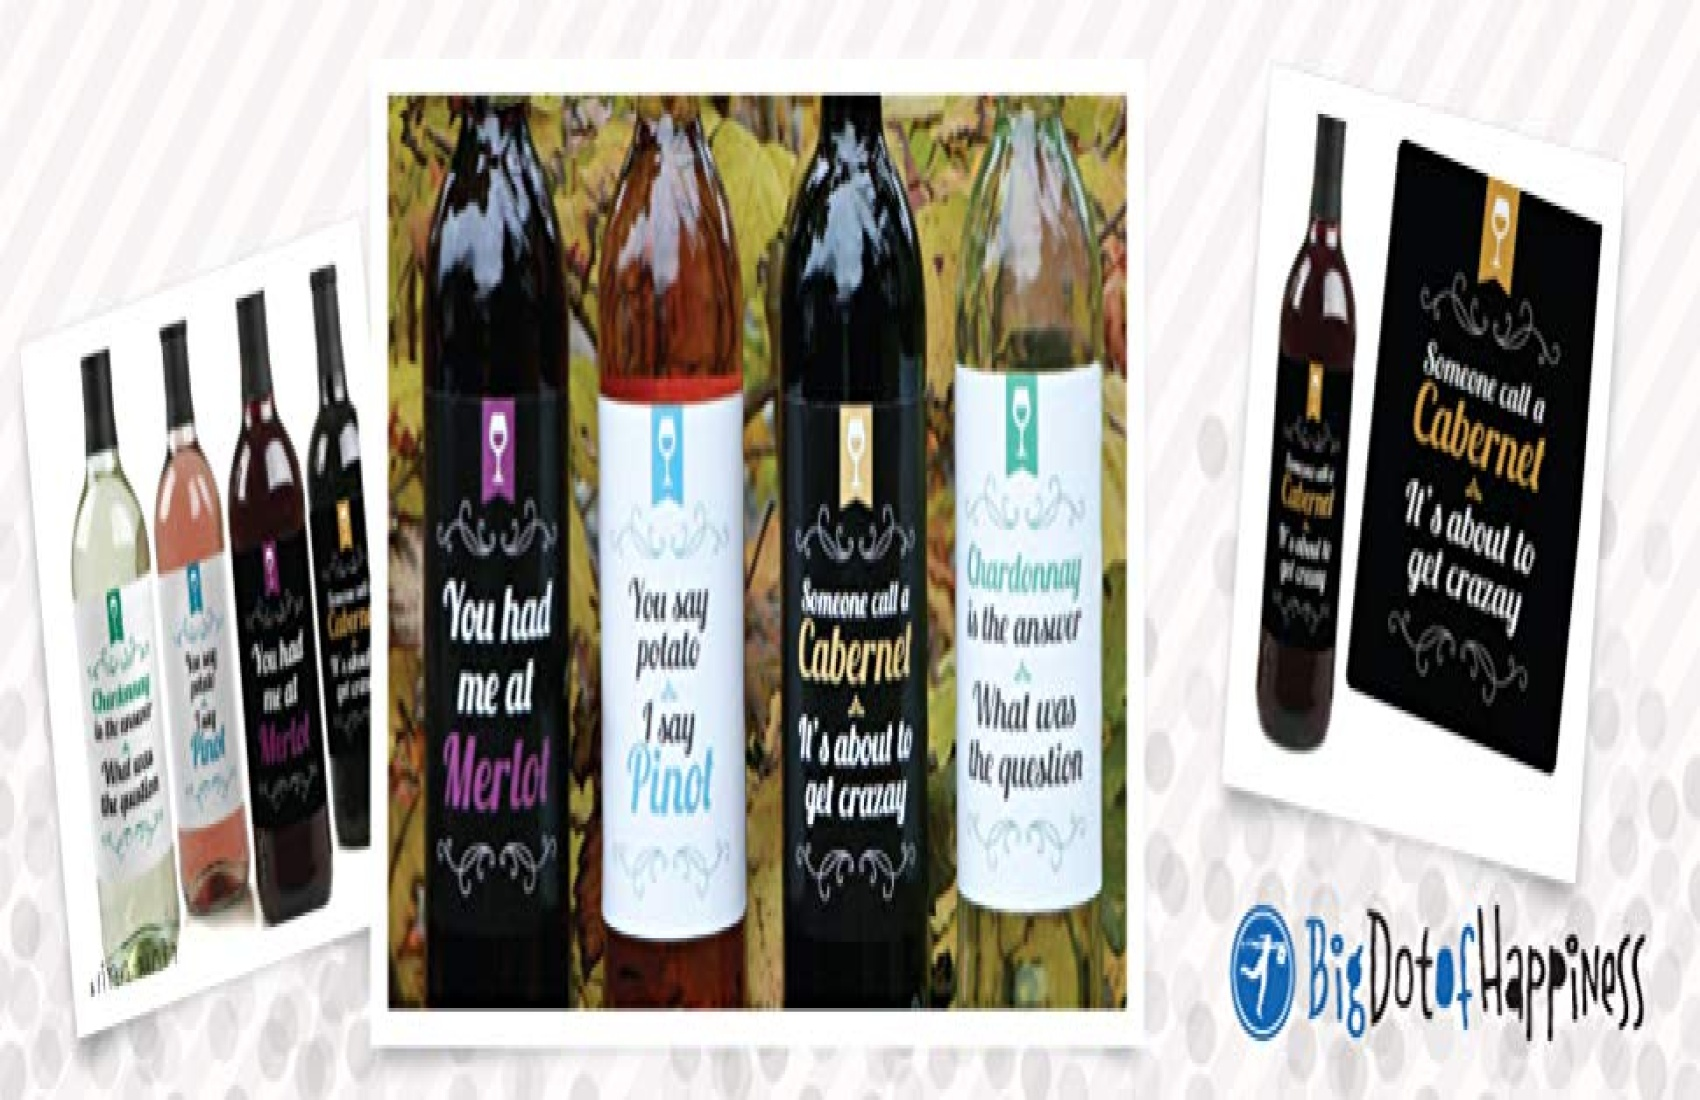wine: (418, 77, 577, 1003), (766, 71, 926, 997), (947, 62, 1106, 989), (596, 73, 756, 998), (1268, 84, 1339, 744)
